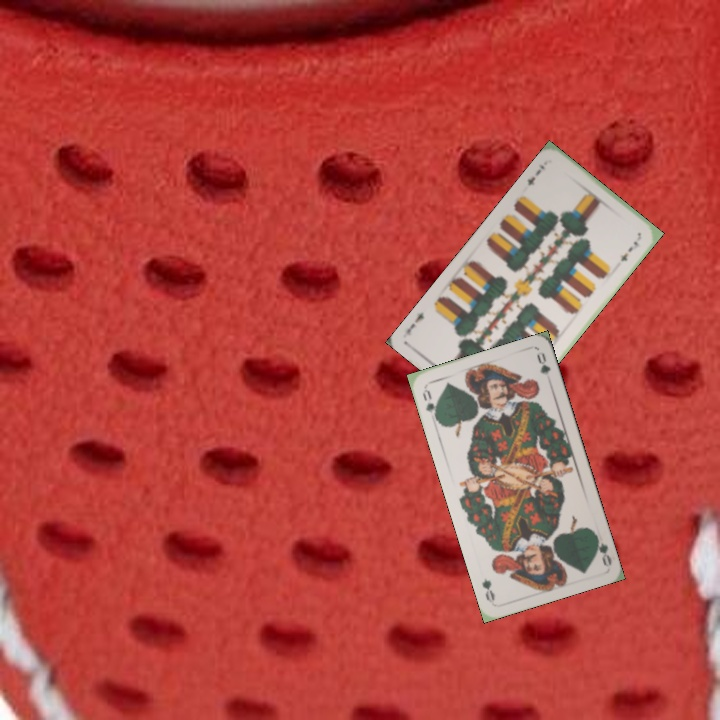E7: (523, 160, 547, 188)
GO: (590, 529, 614, 568), (418, 385, 441, 423)
